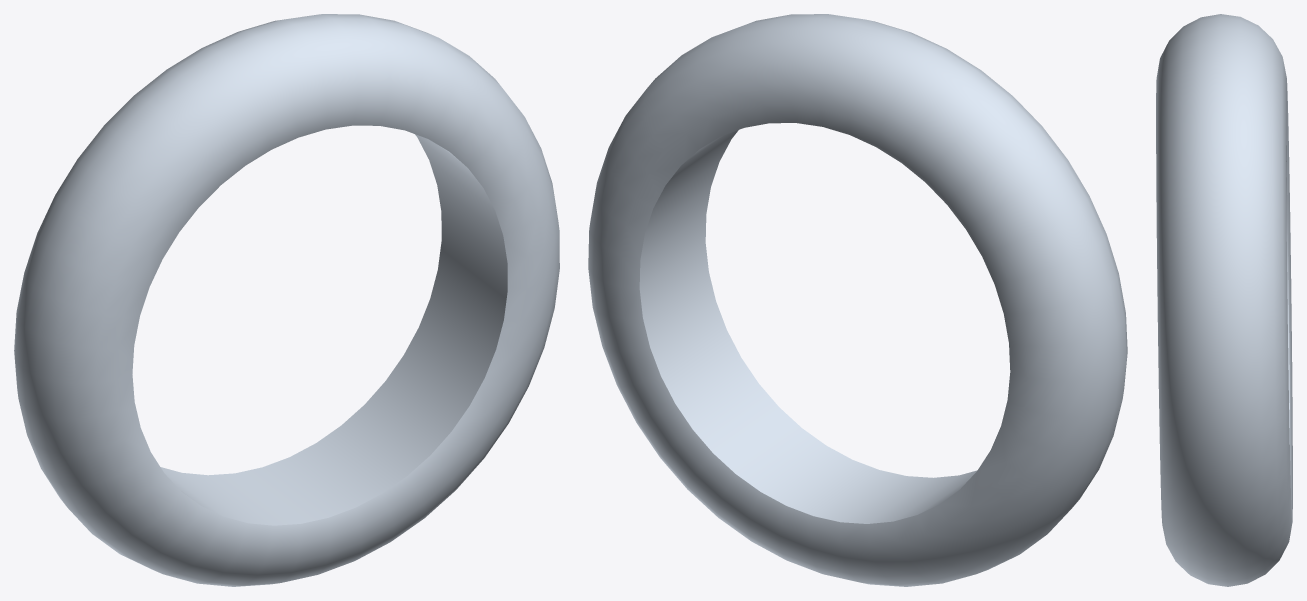
The model's file is RB-043_viewer.glb.
3 views of the same model, side by side, from view 1: azimuth 30°, elevation 25°; view 2: azimuth 150°, elevation 25°; view 3: azimuth 270°, elevation 25° (orthographic). The views are drawn at different scales.
Parts seen in each view (by area): view 1: basebody_imported1; view 2: basebody_imported1; view 3: basebody_imported1.
Part boxes in pixels (box(x1,y1,x2,y2)): basebody_imported1: box(14, 14, 559, 586); basebody_imported1: box(588, 14, 1127, 586); basebody_imported1: box(1156, 14, 1292, 586).
Size of the model in its own units: 0.038 by 0.038 by 0.00908.
